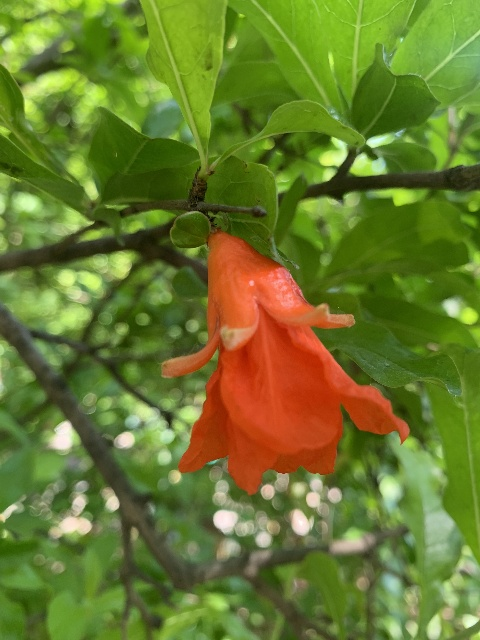flower: (162, 229, 407, 495)
